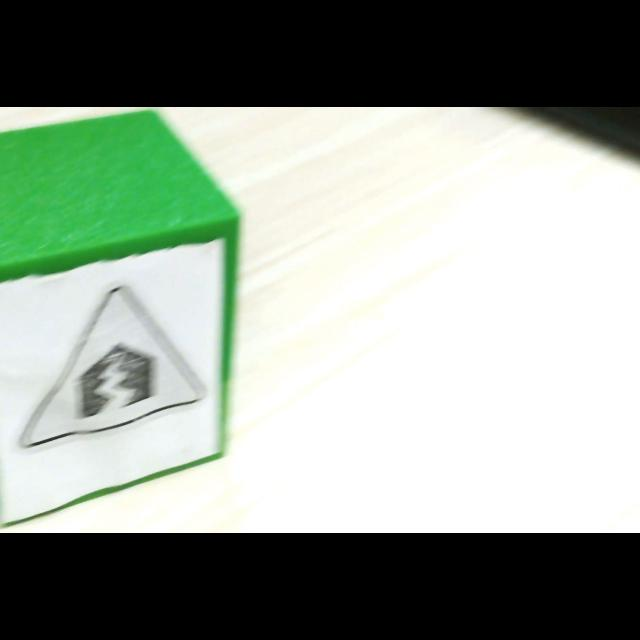Earthquake: (19, 286, 208, 449)
